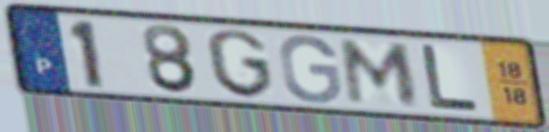1: (67, 17, 106, 90)
8: (139, 22, 199, 96)
G: (203, 27, 278, 101), (276, 32, 345, 106)
L: (419, 42, 483, 115)
M: (339, 37, 422, 108)
